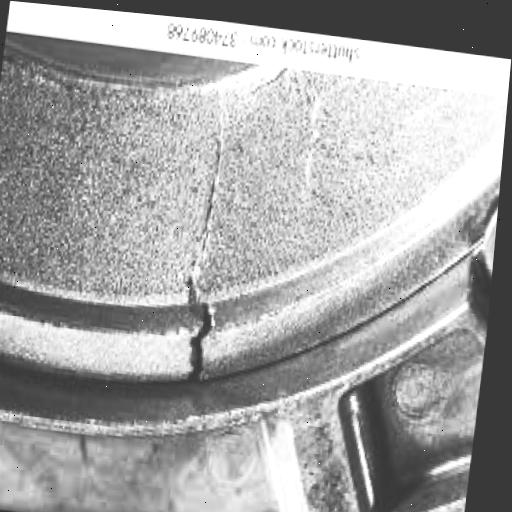crack: (163, 126, 241, 395)
